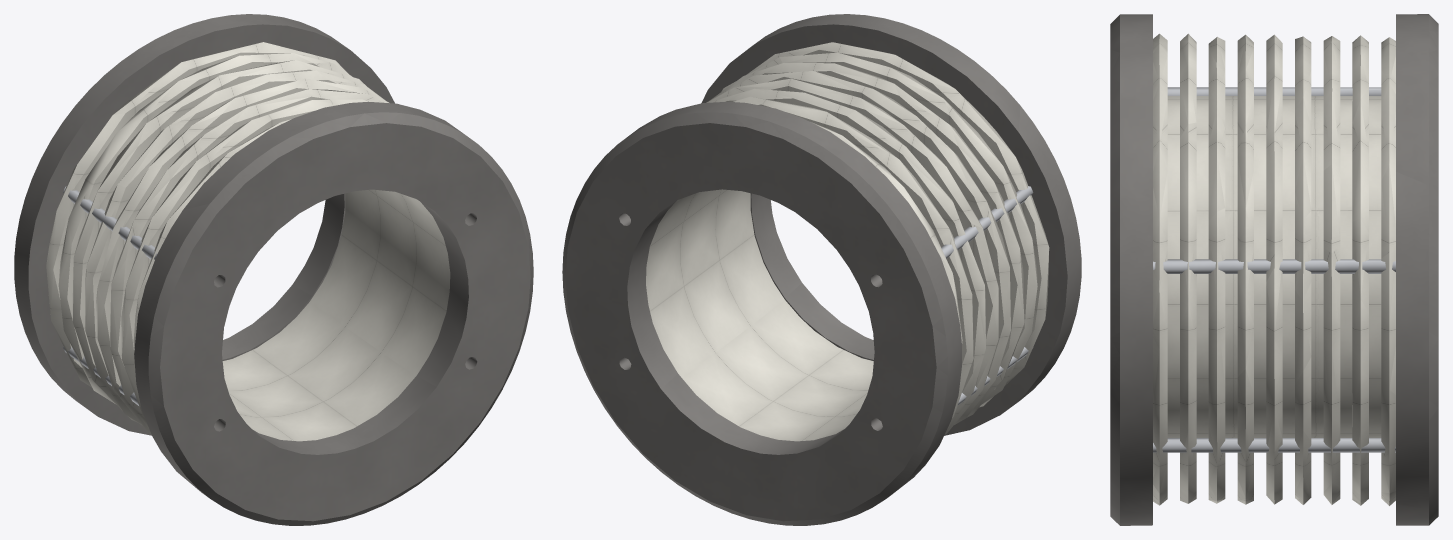
Rendered from ax_rover_11_connector.glb.
3 renders of one model, left to right at view 1: azimuth 30°, elevation 25°; view 2: azimuth 150°, elevation 25°; view 3: azimuth 270°, elevation 25°, orthographic. The views are drawn at different scales.
Parts seen in each view (by area): view 1: ring_front_flange, bellows, bellows_liner, ring_rear_flange, tension_struts; view 2: ring_rear_flange, bellows, bellows_liner, ring_front_flange, tension_struts; view 3: bellows, bellows_liner, ring_rear_flange, ring_front_flange, tension_struts.
Boxes of the visible parts, box(x1,y1,x2,y2) form: ring_front_flange: box(134, 101, 533, 525); bellows: box(46, 42, 388, 434); bellows_liner: box(222, 189, 450, 441); ring_rear_flange: box(14, 14, 394, 435); tension_struts: box(63, 186, 157, 405); ring_rear_flange: box(562, 101, 961, 525); bellows: box(706, 42, 1049, 434); bellows_liner: box(646, 189, 873, 441); ring_front_flange: box(701, 14, 1081, 435); tension_struts: box(941, 186, 1033, 405); bellows: box(1153, 33, 1395, 505); bellows_liner: box(1167, 96, 1381, 437); ring_rear_flange: box(1396, 14, 1438, 525); ring_front_flange: box(1110, 14, 1152, 525); tension_struts: box(1153, 87, 1395, 452).
Size of the model in its own units: 1.56 by 1.56 by 1.
Materials: 3 (3 with a texture image).
